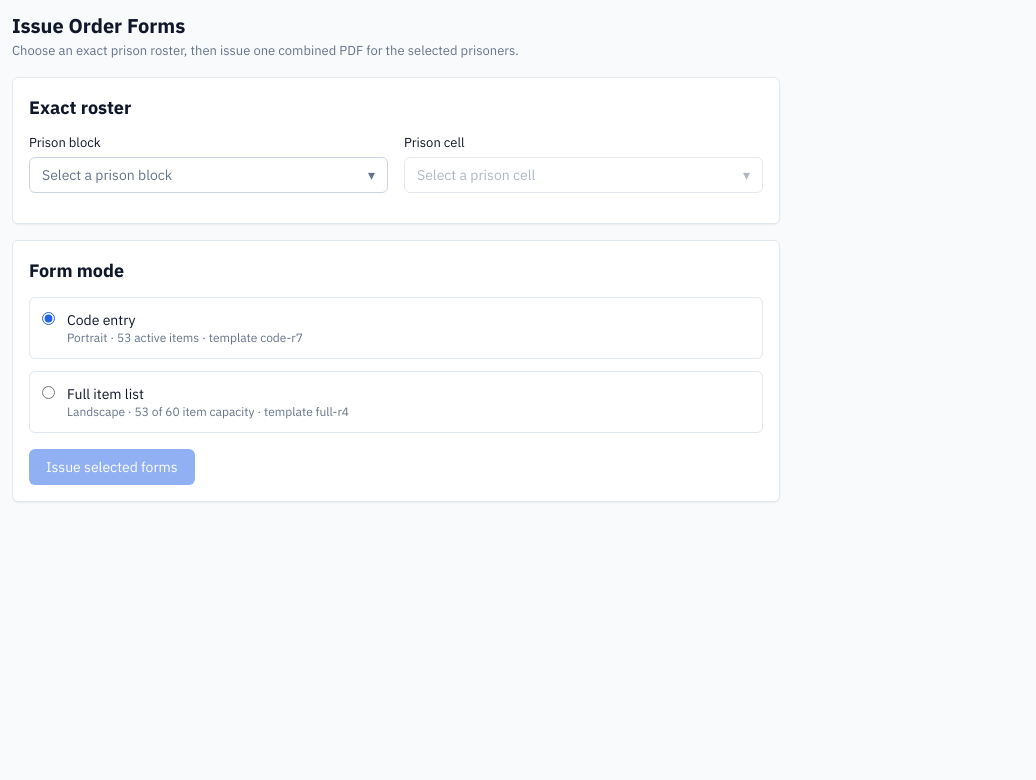
Test: OrderFormPage exact roster and selection › supports individual and select-all-visible selection with the server cap summary
The width and height of the screenshot is (1036, 780).
Click the dropdown labelled "prison block".
click(107, 175)  # box [29,157,388,193]
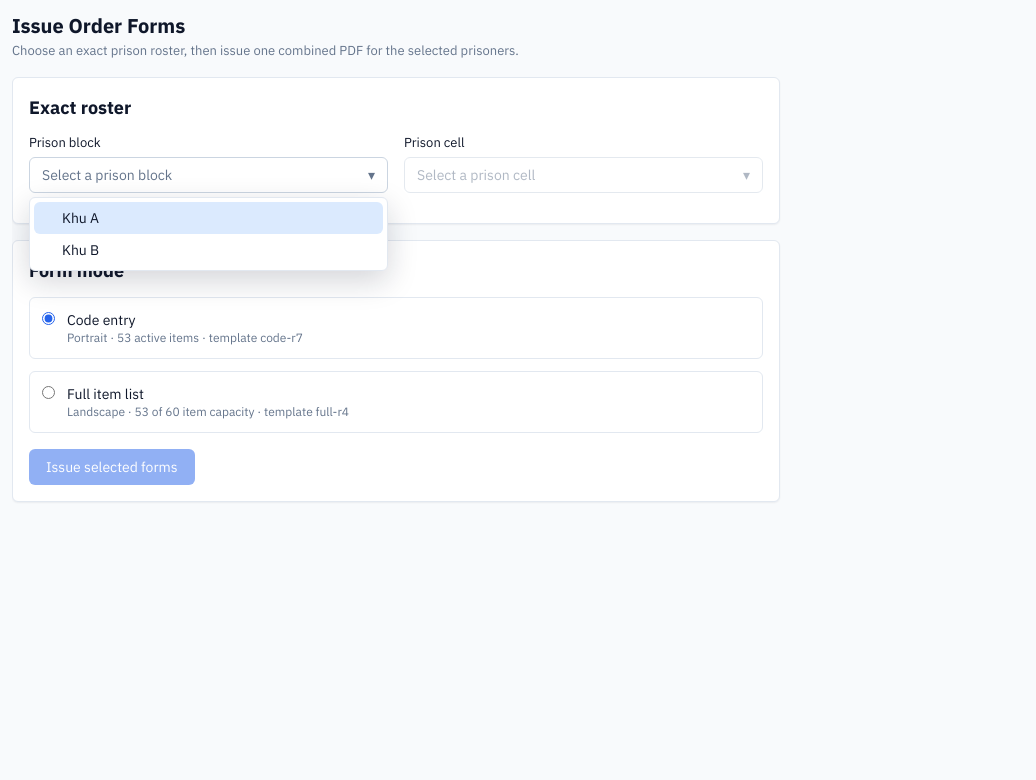
Click the option "Khu A".
click(81, 218)  # box [34,202,383,234]
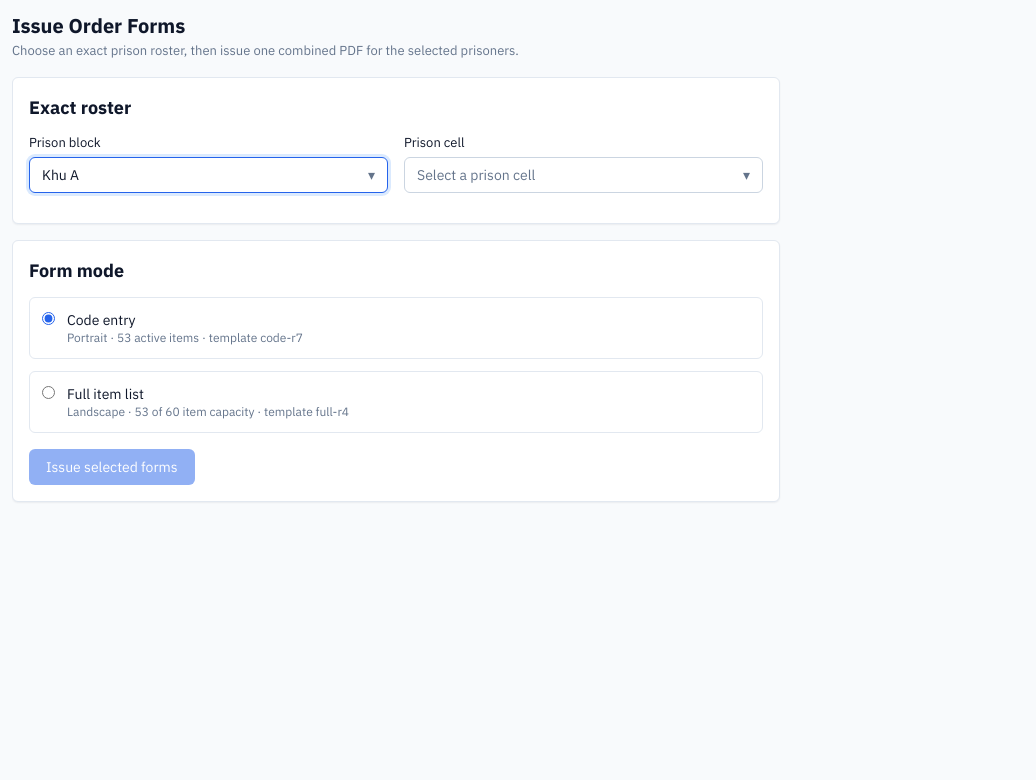
Click the dropdown labelled "prison cell".
click(476, 175)  # box [404,157,763,193]
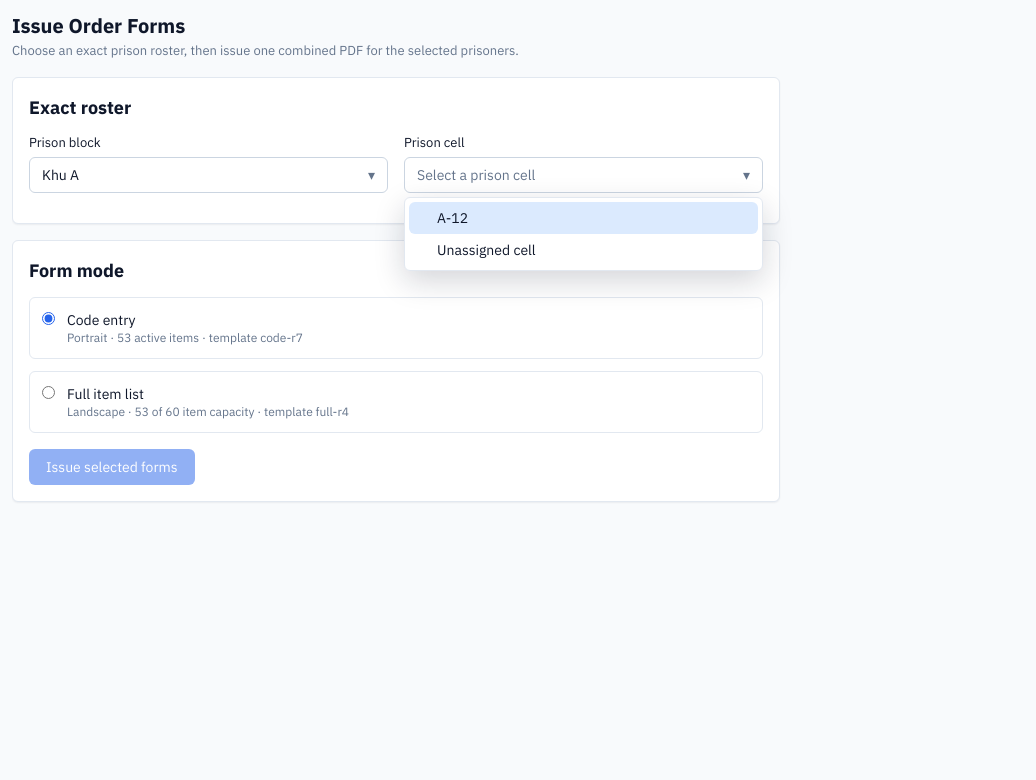
Click the option "A-12".
click(453, 218)  # box [409,202,758,234]
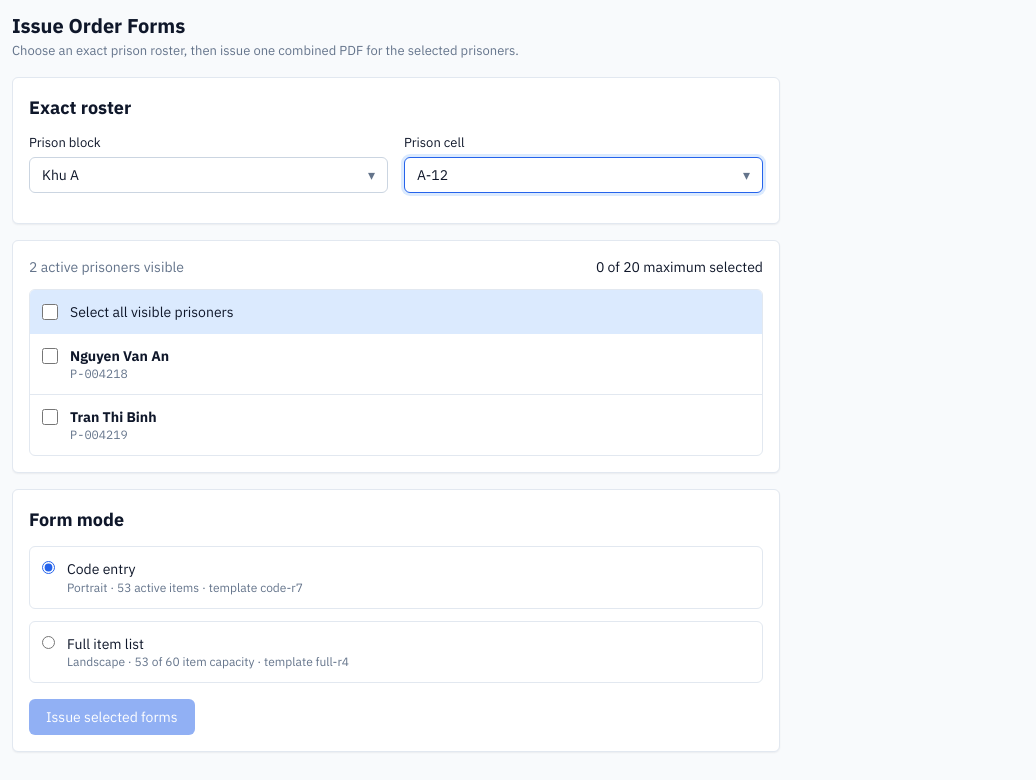
Check: the text "Nguyen Van An" is shown, box [70,346,169,366]
Click the checkbox named "select Nguyen Van An".
click(50, 356)  # box [42,348,58,364]
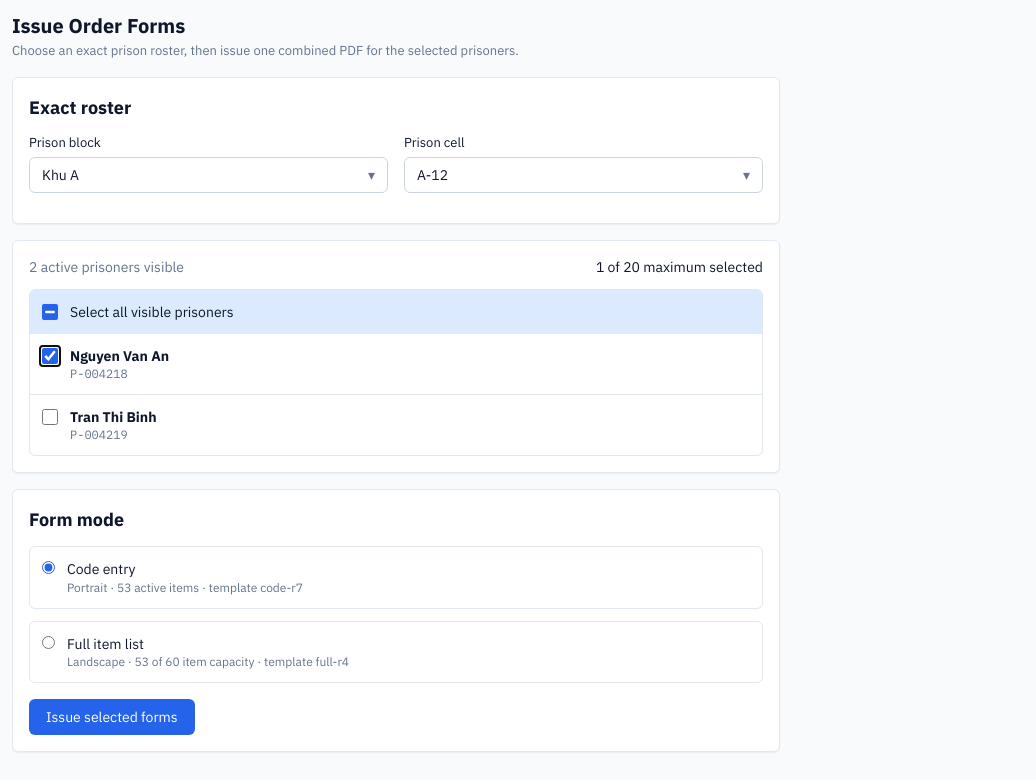
Check: the text "1 of 20 maximum selected" is shown, box [596,257,763,277]
Click the checkbox labelled "Select all visible prisoners".
click(50, 312)  # box [42,304,58,320]
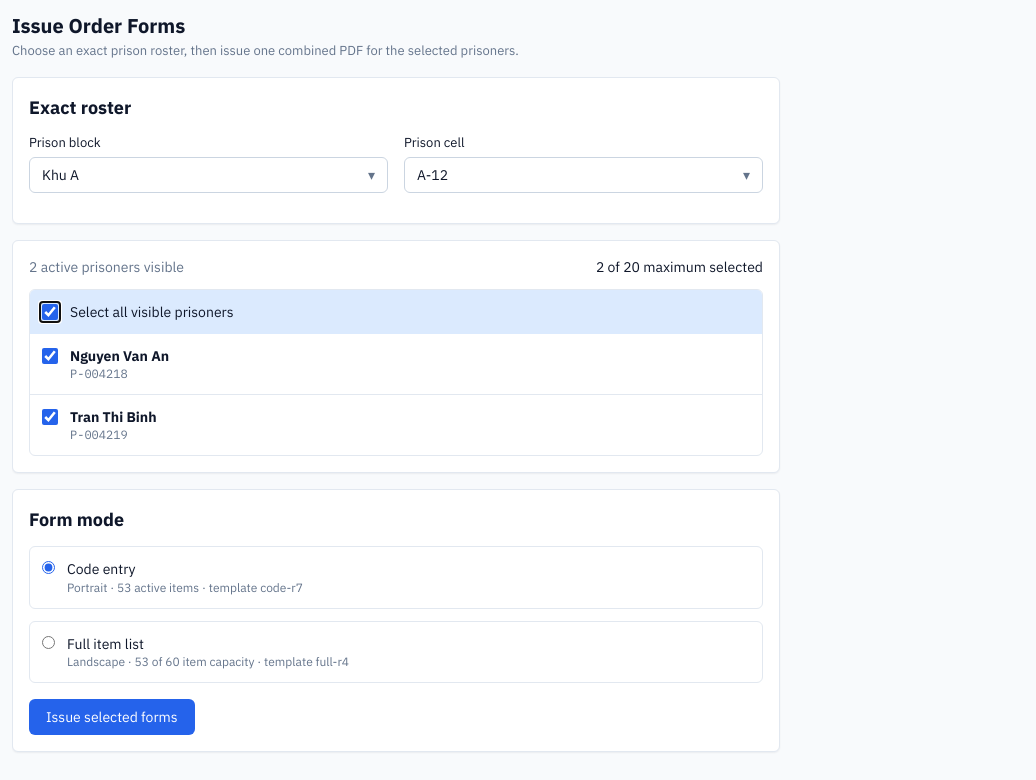
Check: the text "2 of 20 maximum selected" is shown, box [596,257,763,277]
Check: the checkbox named "select Tran Thi Binh" is checked, box [42,409,58,425]
